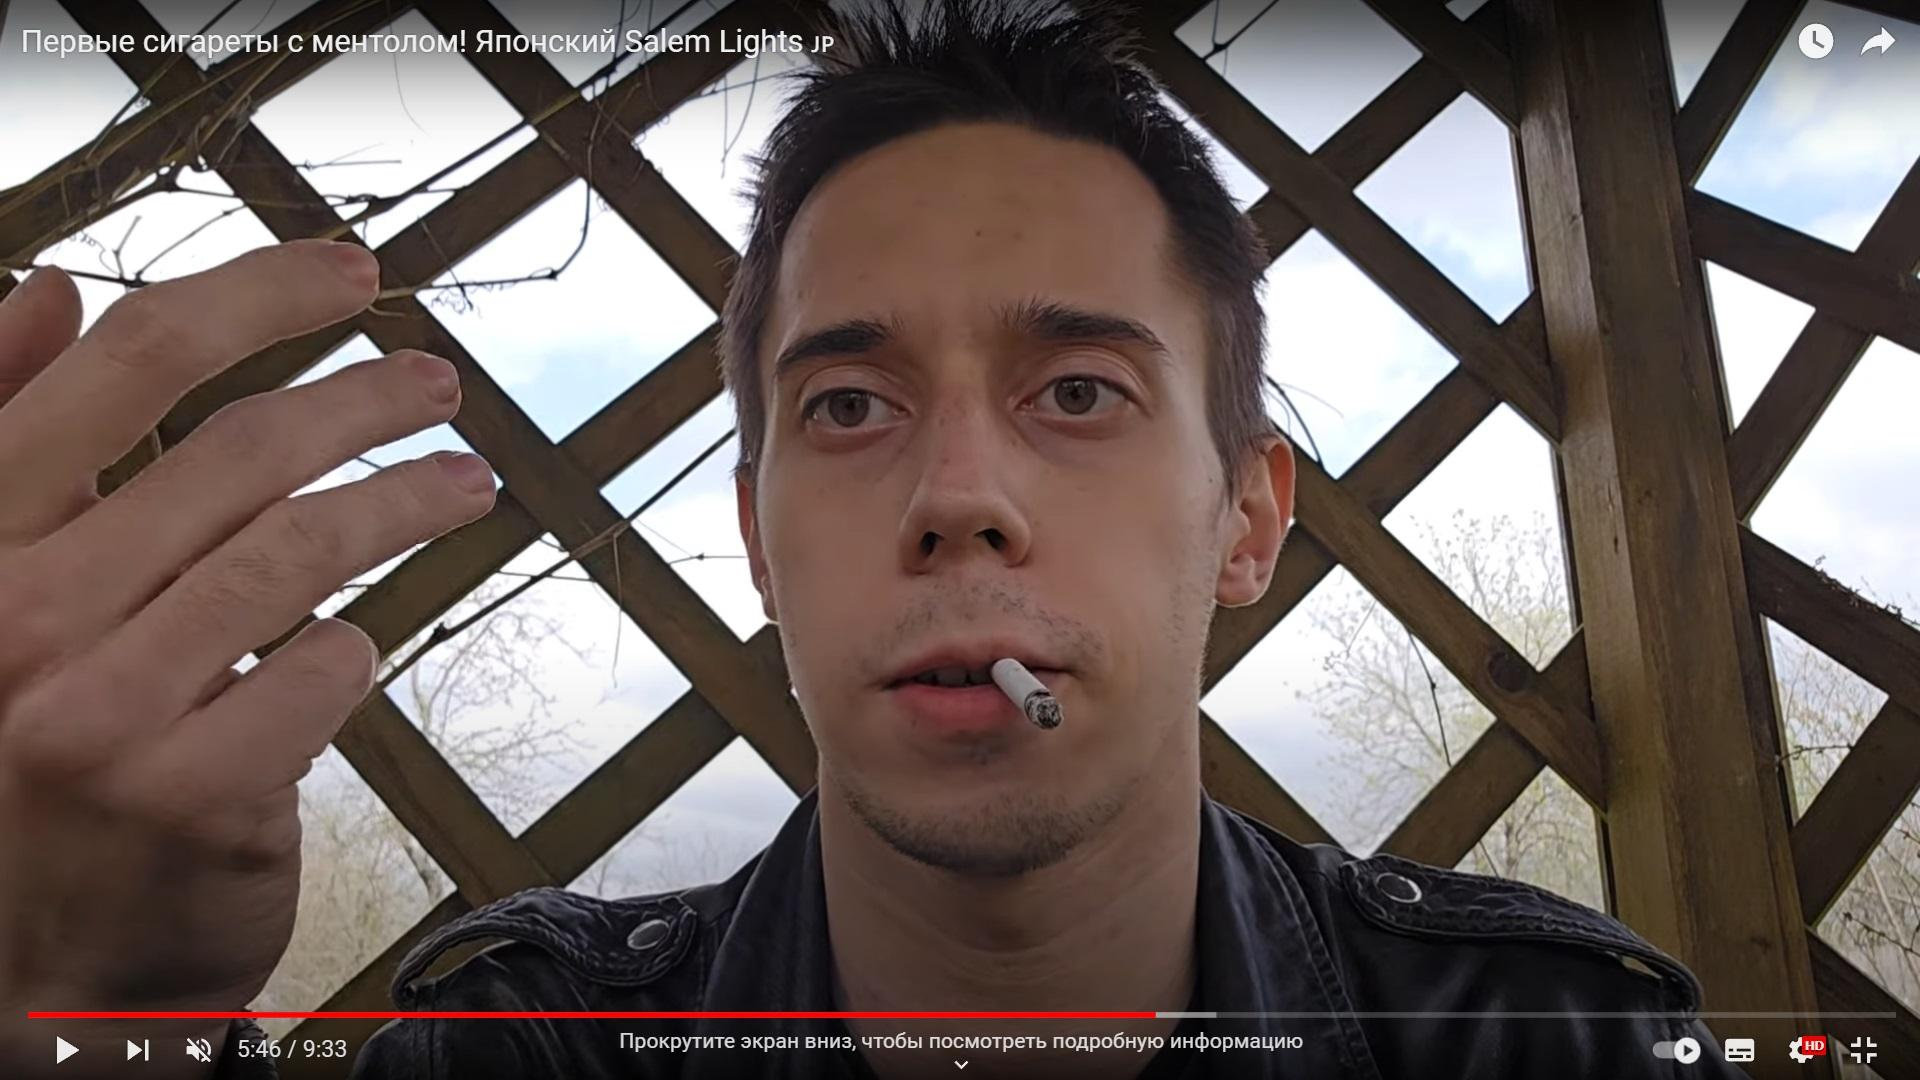cigarette: (990, 658, 1064, 733)
